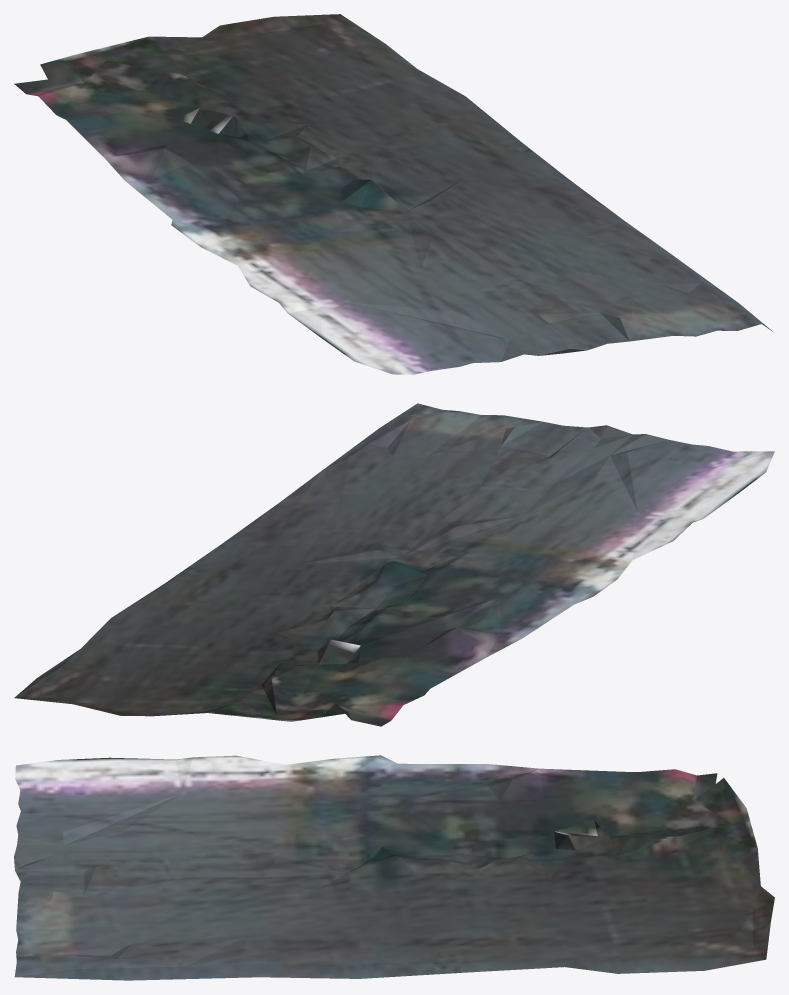
The model's file is meshes_1-dynamic - BLK2GO-3630355-Scan 080 47.obj.
3 views of the same model, one above another, from view 1: azimuth 30°, elevation 25°; view 2: azimuth 150°, elevation 25°; view 3: azimuth 270°, elevation 25° (orthographic). The views are drawn at different scales.
Visible parts, largest first — view 1: 1-dynamic_-_BLK2GO-3630355-Scan_080_47_0; view 2: 1-dynamic_-_BLK2GO-3630355-Scan_080_47_0; view 3: 1-dynamic_-_BLK2GO-3630355-Scan_080_47_0.
Boxes of the visible parts, x1,y1,x2,y2 form: 1-dynamic_-_BLK2GO-3630355-Scan_080_47_0: (14,14,772,374); 1-dynamic_-_BLK2GO-3630355-Scan_080_47_0: (14,403,774,726); 1-dynamic_-_BLK2GO-3630355-Scan_080_47_0: (14,755,774,980).
Size of the model in its own units: 0.9193 by 0.1411 by 1.7.
1 material, 1 textured.
